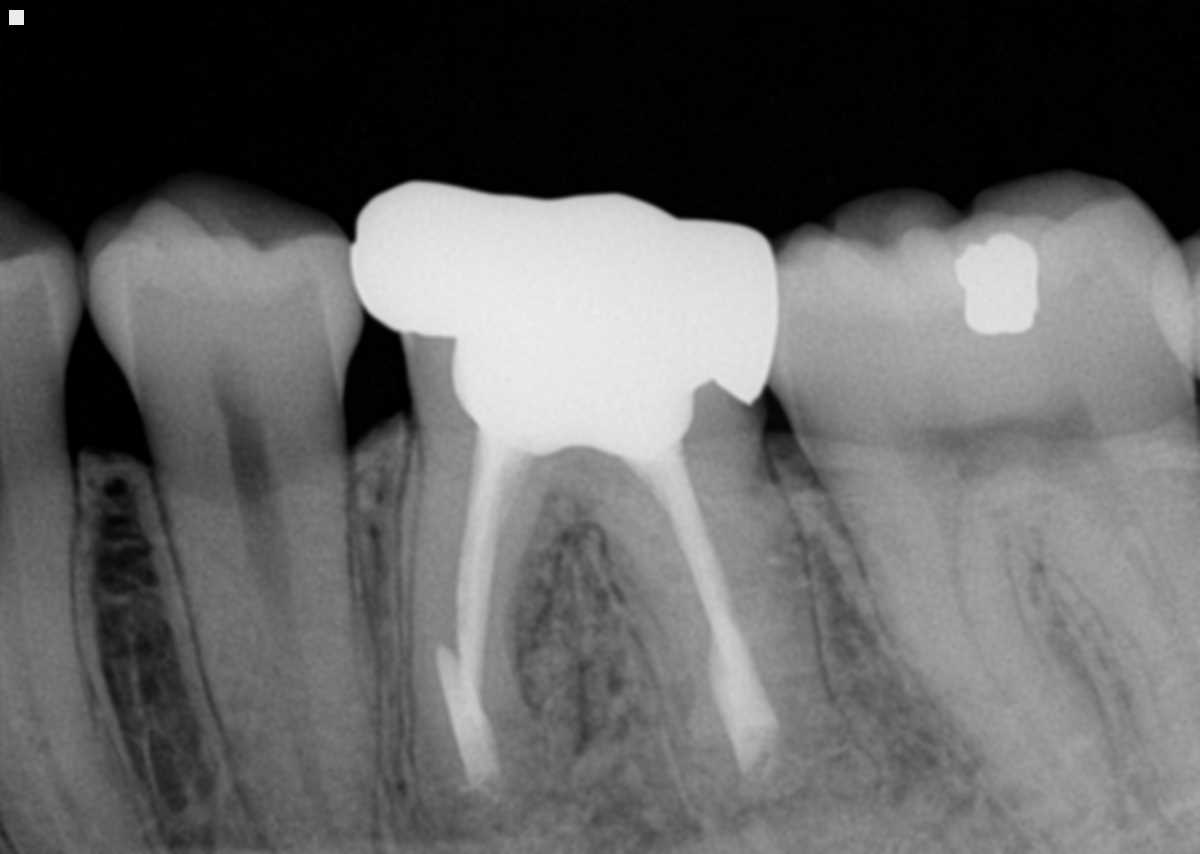Distal Canal: (1092, 491, 1179, 630)
Distal Root: (565, 409, 893, 854), (1042, 450, 1200, 799)
Main Canal: (232, 459, 334, 841)
Main Root: (149, 451, 376, 854), (0, 455, 142, 854)
Mesial Canal: (930, 492, 1075, 802)
Mesial Root: (817, 479, 1115, 853), (394, 420, 555, 853)
Root Canal Filling: (634, 447, 738, 644), (458, 445, 507, 685)
